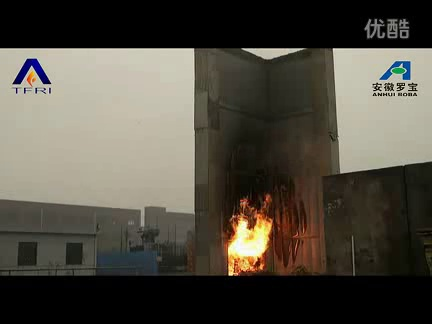fire: (225, 192, 273, 277)
